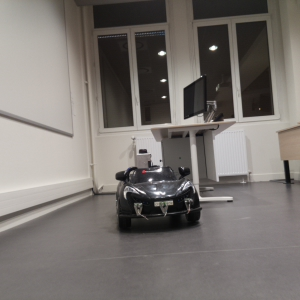big: (112, 163, 208, 233)
